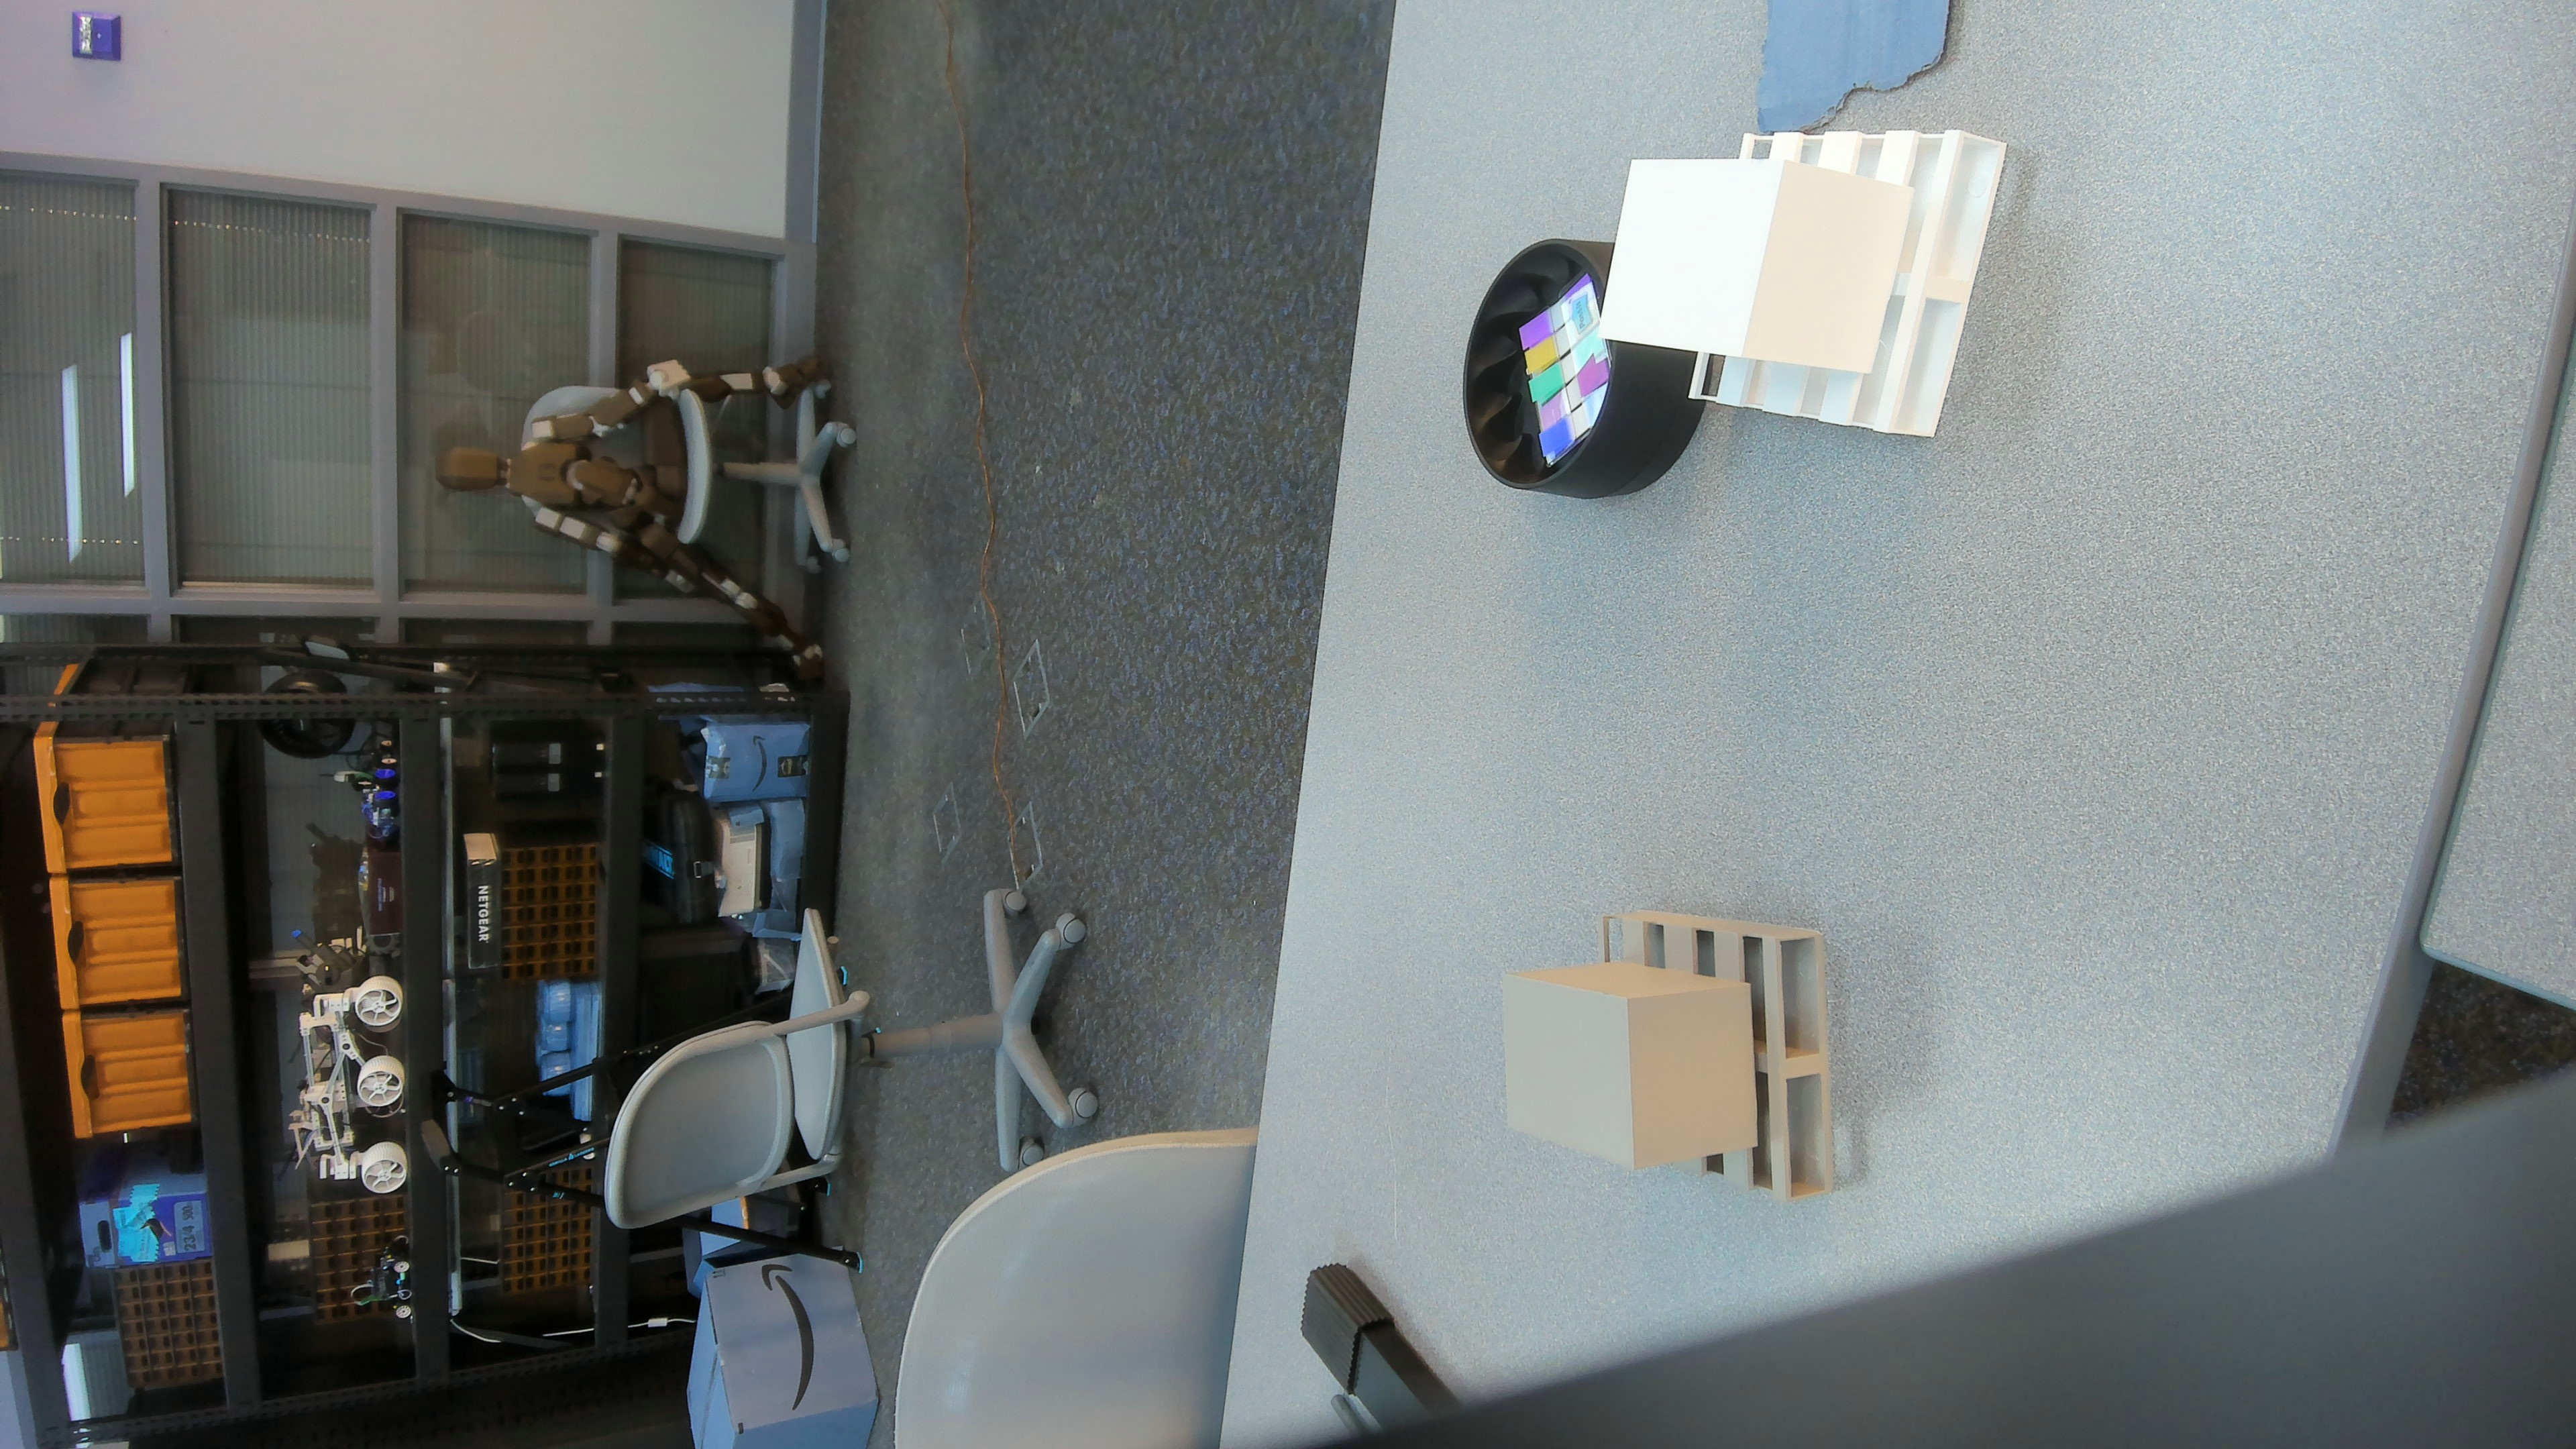grey pallet: (1491, 897, 1868, 1228)
white pallet: (1585, 119, 2031, 456)
